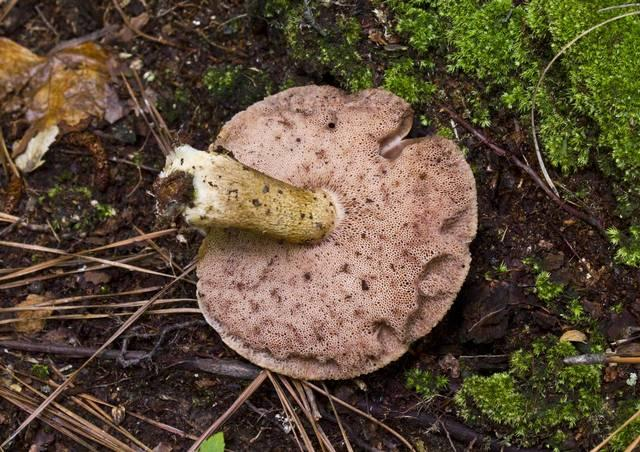Non-edible Mushroom: (153, 82, 479, 381)
